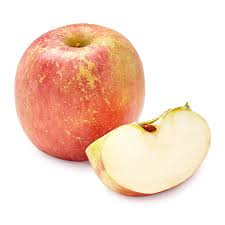apple: (13, 25, 142, 157)
damaged_apple: (85, 104, 214, 201)
